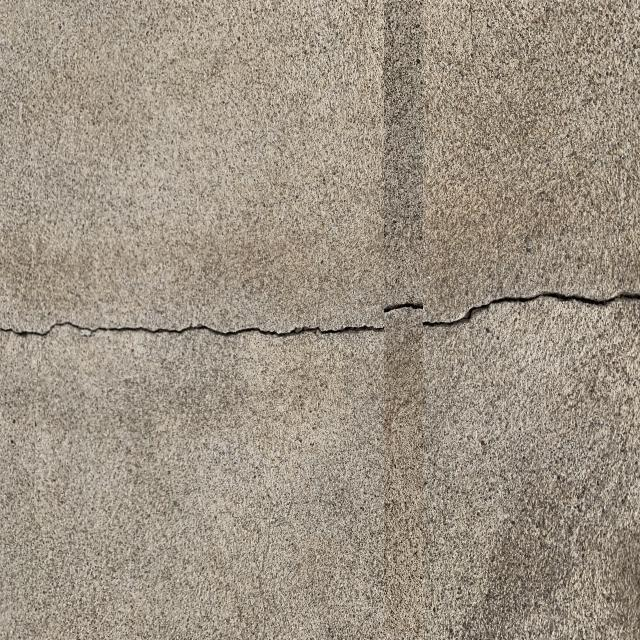horizontal crack: (1, 277, 640, 358)
